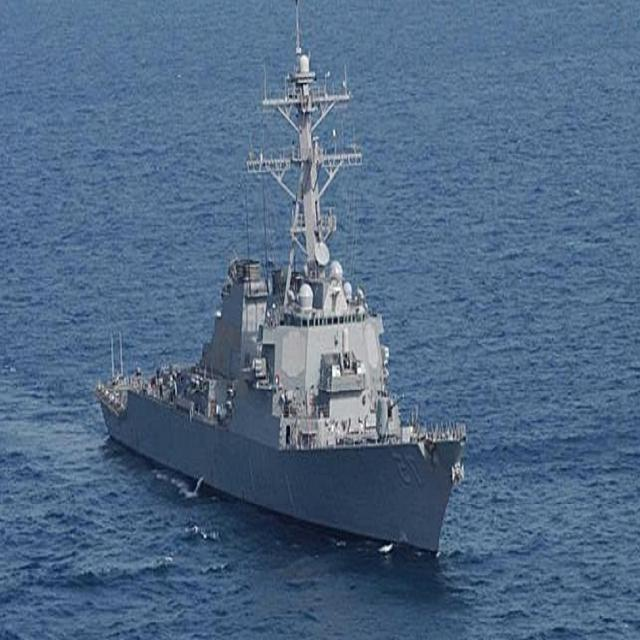navalvessels: (73, 50, 491, 514)
